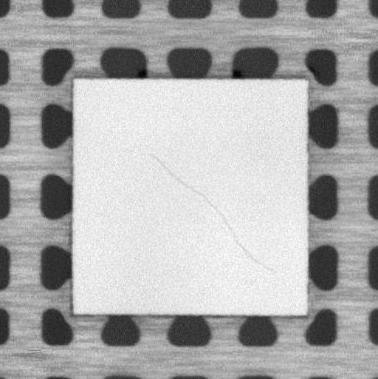DIE_CRACK: (148, 150, 278, 275)
